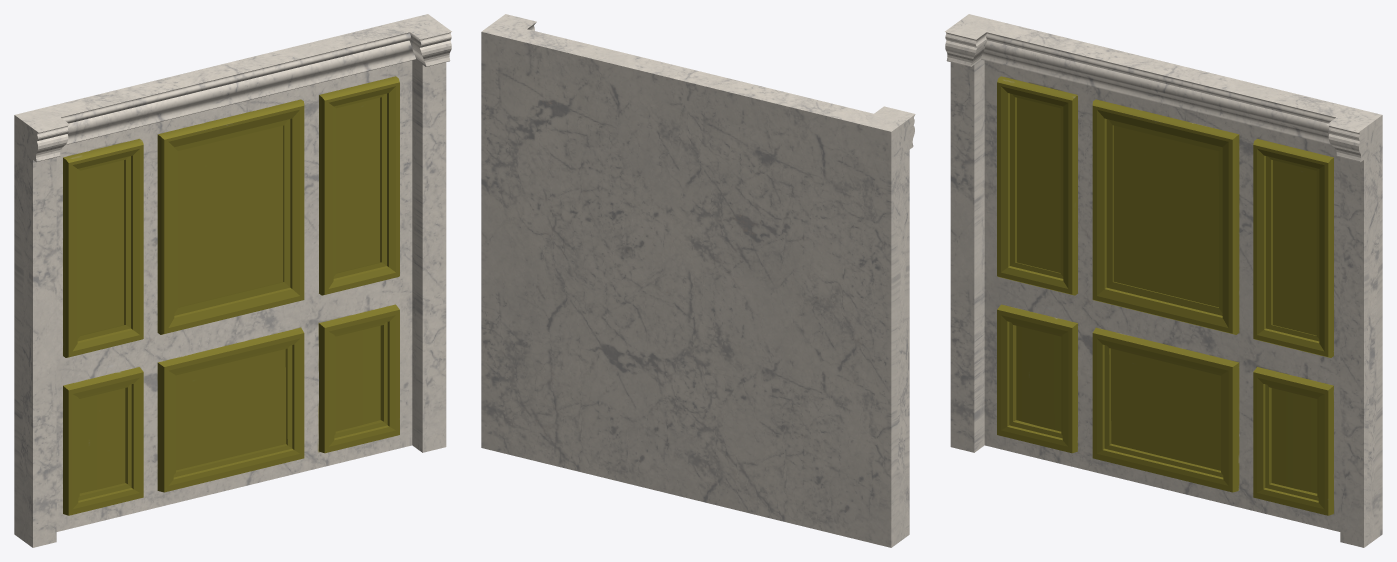
The model's file is Wall.fbx.
3 renders of one model, left to right at view 1: azimuth 30°, elevation 25°; view 2: azimuth 150°, elevation 25°; view 3: azimuth 330°, elevation 25°, orthographic.
Parts seen in each view (by area): view 1: pasted__Wall2; view 2: pasted__Wall2; view 3: pasted__Wall2.
Part boxes in pixels (x1,y1,x2,y2): pasted__Wall2: (14,14,451,547); pasted__Wall2: (481,14,915,547); pasted__Wall2: (945,14,1382,547).
Size of the model in its own units: 62.78 by 60.86 by 6.44.
